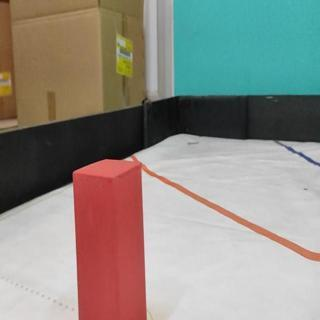redbox: (73, 159, 147, 320)
